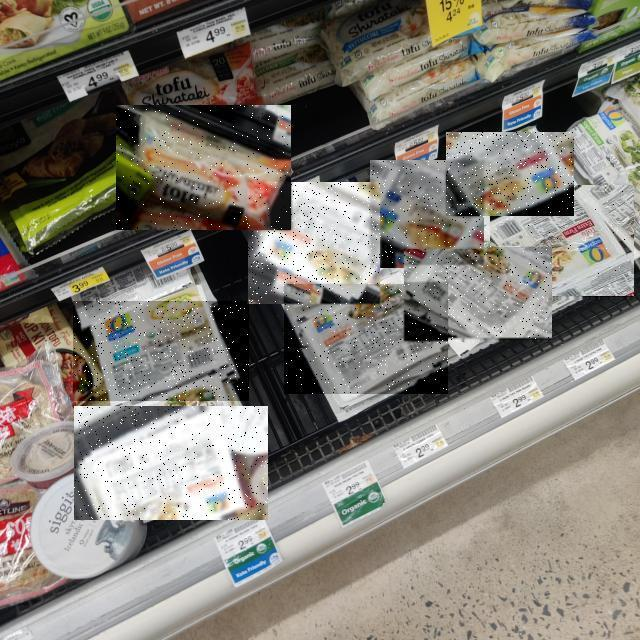Tofu: (74, 406, 268, 520), (116, 105, 291, 230), (284, 284, 448, 394), (73, 301, 249, 401), (490, 186, 634, 300), (249, 182, 381, 304), (405, 250, 553, 342), (370, 160, 484, 268), (446, 133, 574, 217)
